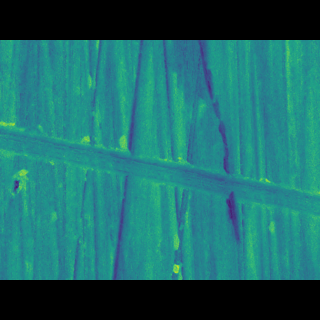Loch: (0, 126, 320, 203), (235, 70, 273, 249), (0, 164, 33, 191)
